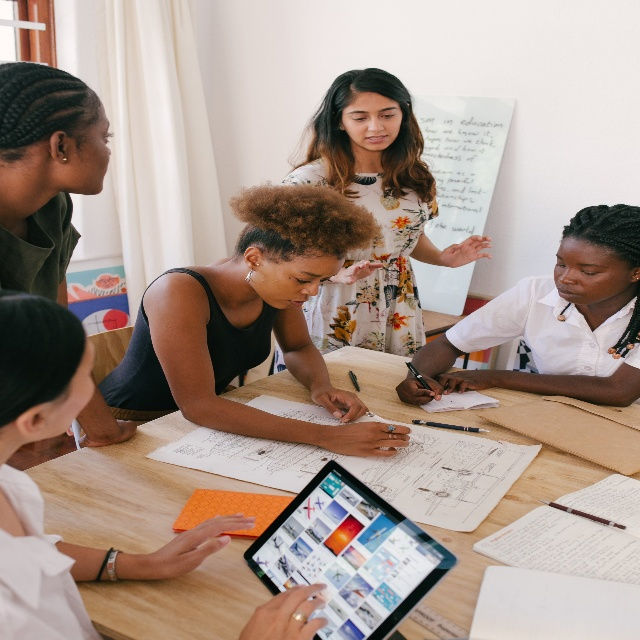Sin_guantes: (155, 512, 256, 582), (238, 581, 327, 640), (325, 420, 412, 458), (311, 380, 369, 423), (77, 418, 138, 449), (440, 234, 492, 269), (395, 370, 444, 407), (436, 366, 494, 395), (341, 258, 384, 285)
